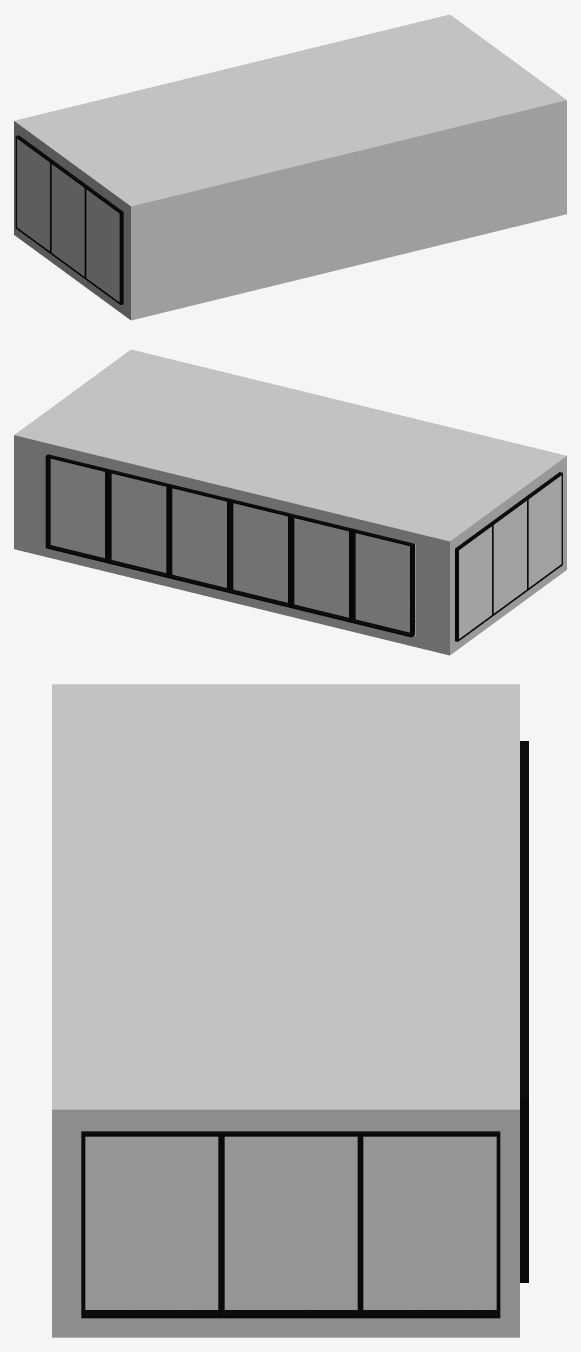
The model's file is Room.fbx.
The picture shows the model from 3 angles, top to bottom: view 1: azimuth 30°, elevation 25°; view 2: azimuth 150°, elevation 25°; view 3: azimuth 270°, elevation 25°; orthographic projection. The views are drawn at different scales.
Visible parts, largest first — view 1: Room, GlassWindow.010, GlassWindow.011, GlassWindow.009; view 2: Room, GlassWindow.008, GlassWindow.003, GlassWindow.006, GlassWindow.007, GlassWindow.005, GlassWindow.004, GlassWindow.011, GlassWindow.010, GlassWindow.009; view 3: Room, GlassWindow.001, GlassWindow, GlassWindow.002, GlassWindow.003.
Boxes of the visible parts, x1,y1,x2,y2 form: Room: [14, 14, 566, 320]; GlassWindow.010: [85, 186, 123, 304]; GlassWindow.011: [15, 135, 53, 253]; GlassWindow.009: [50, 161, 88, 279]; Room: [14, 349, 566, 655]; GlassWindow.008: [350, 528, 414, 637]; GlassWindow.003: [45, 454, 108, 562]; GlassWindow.006: [228, 499, 291, 607]; GlassWindow.007: [289, 514, 352, 622]; GlassWindow.005: [167, 484, 230, 592]; GlassWindow.004: [107, 469, 169, 577]; GlassWindow.011: [455, 523, 493, 641]; GlassWindow.010: [525, 472, 562, 590]; GlassWindow.009: [490, 497, 527, 615]; Room: [52, 684, 519, 1337]; GlassWindow.001: [81, 1131, 222, 1318]; GlassWindow: [220, 1131, 361, 1318]; GlassWindow.002: [359, 1131, 500, 1318]; GlassWindow.003: [520, 1038, 528, 1282].
Bounding box in the file's own units: 810 × 200 × 379.
4 materials, 1 textured.
